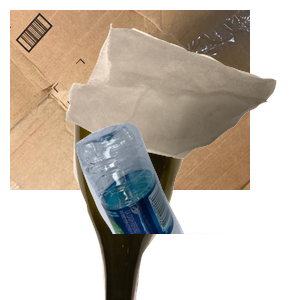cardboard: (10, 10, 250, 190)
glass: (71, 120, 254, 300)
plastic: (73, 120, 300, 300)
trash: (63, 21, 300, 172)
